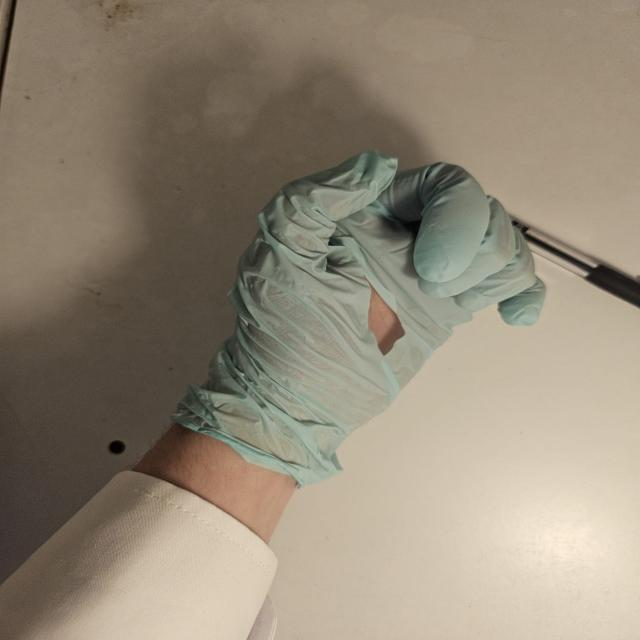gloves_damaged: (165, 150, 549, 480)
